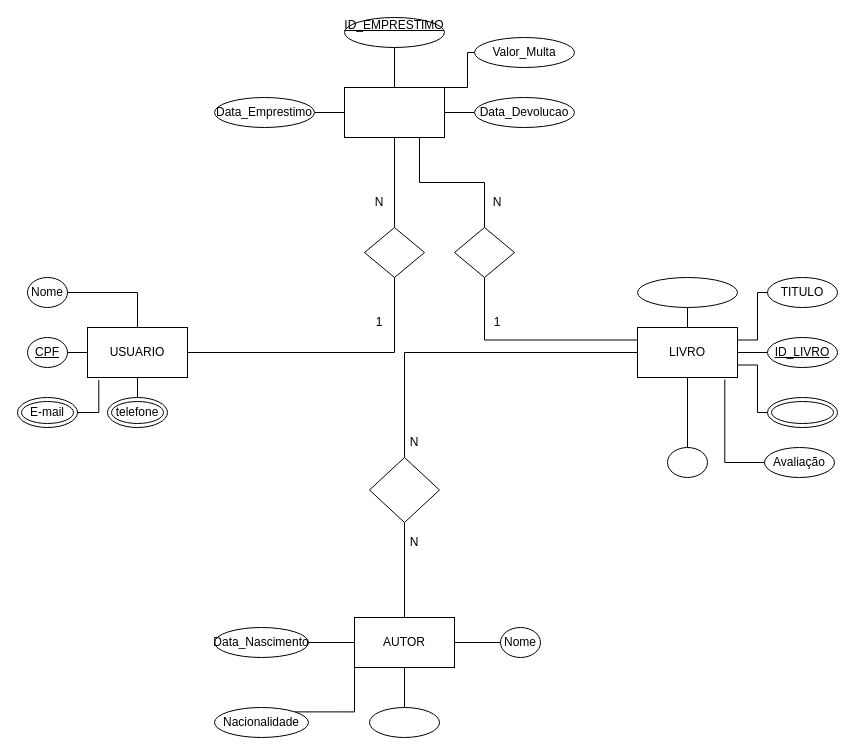
This 855x755 diagram has some shape labels left out. The centre of each missing label's shape, as x and y in pixels:
"Categorias" belongs at pixel 802 412.
"Data_Publicacao" belongs at pixel 687 292.
"EMPRESTIMO" belongs at pixel 394 112.
"Escrito por" belongs at pixel 404 489.
"ID_AUTOR" belongs at pixel 404 722.
"Possui" belongs at pixel 484 252.
"Preço" belongs at pixel 687 462.
"Realiza" belongs at pixel 394 252.
